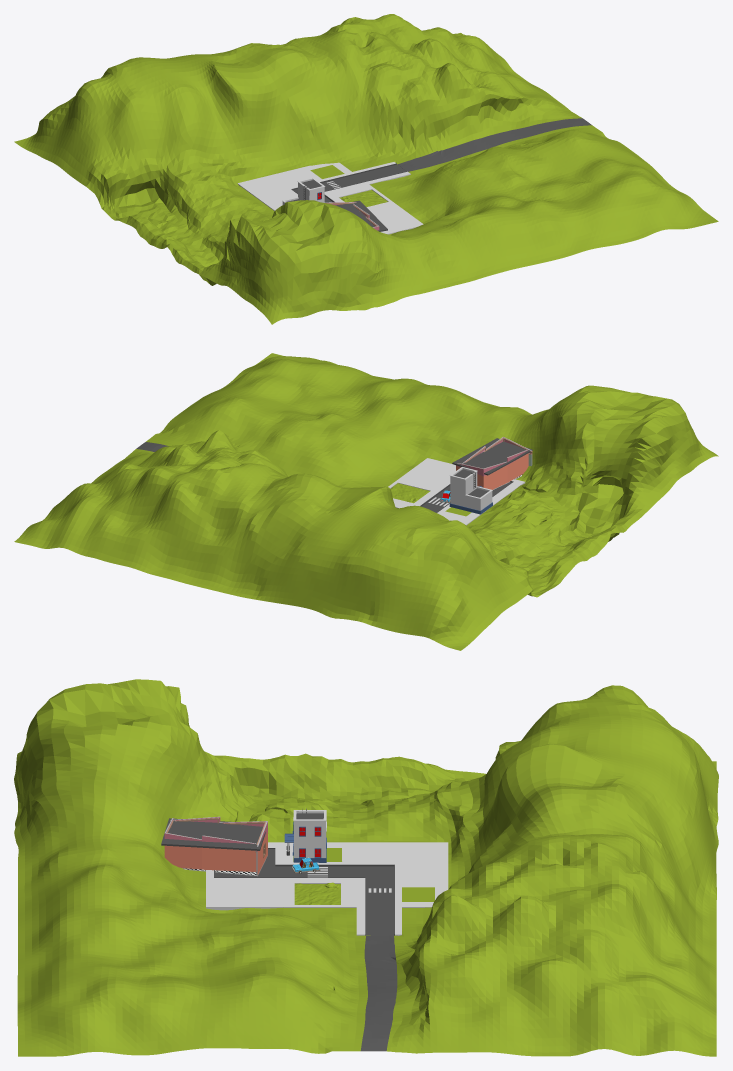
The model's file is 1lvl.fbx.
3 views of the same model, one above another, from view 1: azimuth 30°, elevation 25°; view 2: azimuth 150°, elevation 25°; view 3: azimuth 270°, elevation 25° (orthographic). The views are drawn at different scales.
Visible parts, largest first — view 1: Low_poly_scene_Landskape_plane_3345_1, Low_poly_scene_Building_3023; view 2: Low_poly_scene_Landskape_plane_3345_1, Low_poly_scene_Building_3023, LowPolyKitchen2__Pot_4622, Cube_2; view 3: Low_poly_scene_Landskape_plane_3345_1, LowPolyKitchen2__Pot_4622, Cube_2, Low_poly_scene_Building_3023.
Part boxes in pixels (<box>): Low_poly_scene_Landskape_plane_3345_1: <box>14,14,718,324</box>; Low_poly_scene_Building_3023: <box>282,177,325,204</box>; Low_poly_scene_Landskape_plane_3345_1: <box>14,353,718,650</box>; Low_poly_scene_Building_3023: <box>449,467,492,514</box>; LowPolyKitchen2__Pot_4622: <box>456,437,532,489</box>; Cube_2: <box>452,438,532,475</box>; Low_poly_scene_Landskape_plane_3345_1: <box>14,679,718,1056</box>; LowPolyKitchen2__Pot_4622: <box>164,816,267,875</box>; Cube_2: <box>161,818,265,850</box>; Low_poly_scene_Building_3023: <box>284,810,326,862</box>.
Size of the model in its own units: 5031 by 1113 by 5045.
15 materials, 14 textured.
